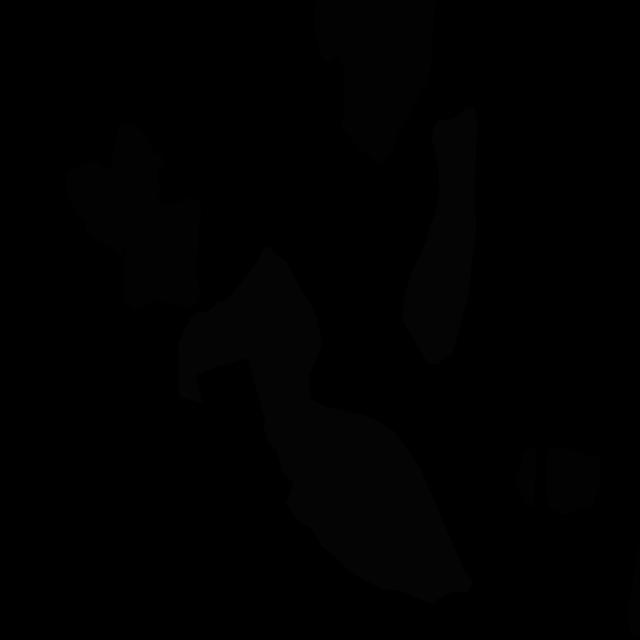cardboard: (314, 0, 436, 164), (66, 121, 164, 256), (123, 198, 201, 310), (546, 445, 601, 515), (516, 441, 537, 507), (628, 538, 640, 640)
soft_plastic: (178, 246, 474, 605), (402, 106, 478, 364)
